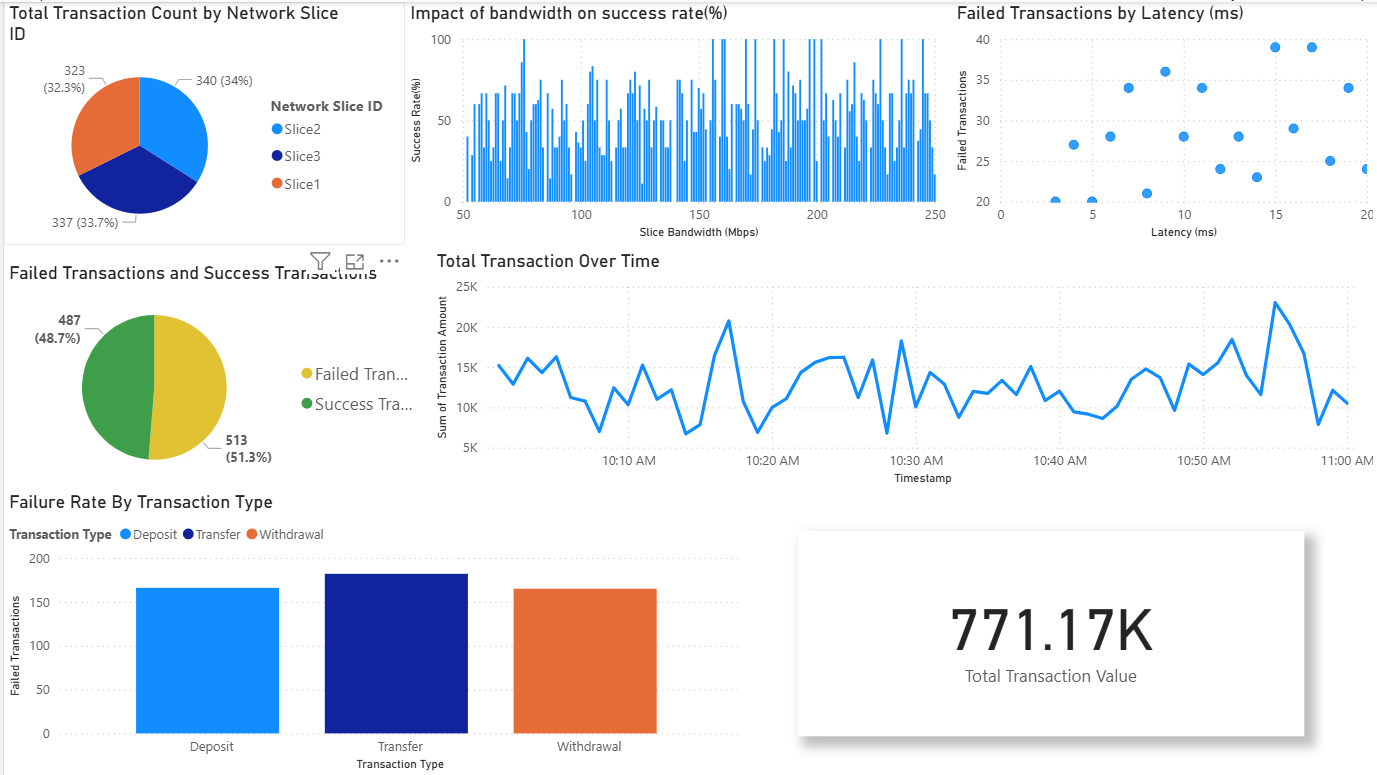

The page's visual inventory and layout, read from the dashboard file:
{"tool":"powerbi","page":{"name":"Page 1","canvas":[1280,720],"ordinal":0},"visuals":[{"type":"card","fields":{"Values":["transaction_data.Toutal Transaction Value"]},"box":[738.6,491.4,471.4,191.4],"z":0},{"type":"lineChart","title":"Total Transaction Over Time","fields":{"Y":["Sum(transaction_data.Transaction Amount)"],"Category":["transaction_data.Timestamp"]},"box":[397.1,230,882.9,224.3],"z":2000},{"type":"pieChart","fields":{"Y":["transaction_data.Failed Transactions","transaction_data.Success Transactions"]},"box":[0,241.4,397.1,212.9],"z":3000},{"type":"columnChart","title":"Failure Rate By Transaction Type","fields":{"Y":["transaction_data.Failed Transactions"],"Series":["transaction_data.Transaction Type"],"Category":["transaction_data.Transaction Type","transaction_data.Device Used"]},"box":[0,454.3,690,265.7],"z":4000},{"type":"scatterChart","fields":{"X":["transaction_data.Latency (ms)"],"Y":["transaction_data.Failed Transactions"]},"box":[881.4,0,398.6,225.7],"z":6000},{"type":"pieChart","fields":{"Category":["transaction_data.Network Slice ID"],"Y":["transaction_data.Total Transaction Count"]},"box":[0,0,372.9,225.7],"z":7000},{"type":"clusteredColumnChart","title":"Impact of bandwidth on success rate(%)","fields":{"Y":["transaction_data.Success Rate(%)"],"Category":["transaction_data.Slice Bandwidth (Mbps)"]},"box":[372.9,0,508.6,225.7],"z":8000}]}

Visuals, with their boxes in screenshot pixels (x1, y1, x2, y2), scaled from the page's 1280x720 canvas onto the 1377x775 screenshot:
card - transaction_data.Toutal Transaction Value: (795, 529, 1302, 735)
"Total Transaction Over Time" lineChart: (427, 248, 1376, 489)
pieChart - transaction_data.Failed Transactions x transaction_data.Success Transactions: (0, 260, 427, 489)
"Failure Rate By Transaction Type" columnChart: (0, 489, 742, 774)
scatterChart - transaction_data.Latency (ms) x transaction_data.Failed Transactions: (948, 0, 1376, 243)
pieChart - transaction_data.Network Slice ID x transaction_data.Total Transaction Count: (0, 0, 401, 243)
"Impact of bandwidth on success rate(%)" clusteredColumnChart: (401, 0, 948, 243)
